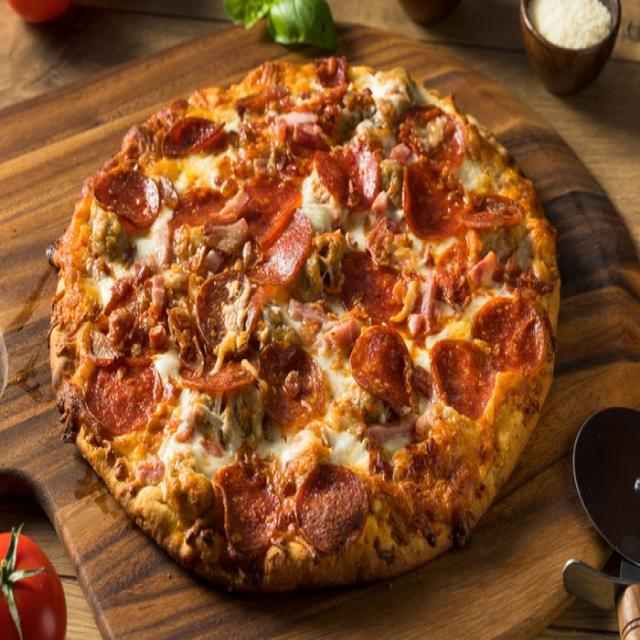pizza: (49, 61, 561, 597)
